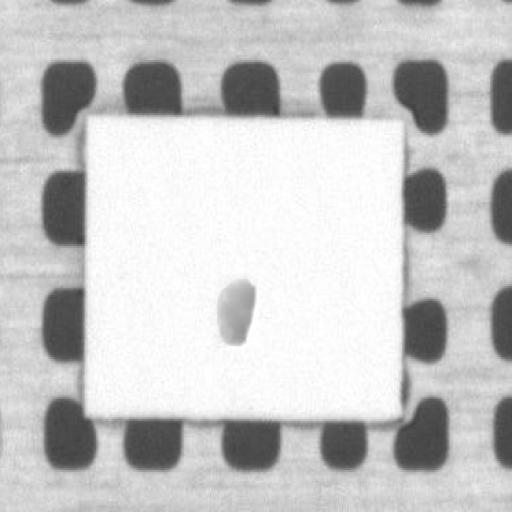DIE_INK: (275, 199, 348, 268)
